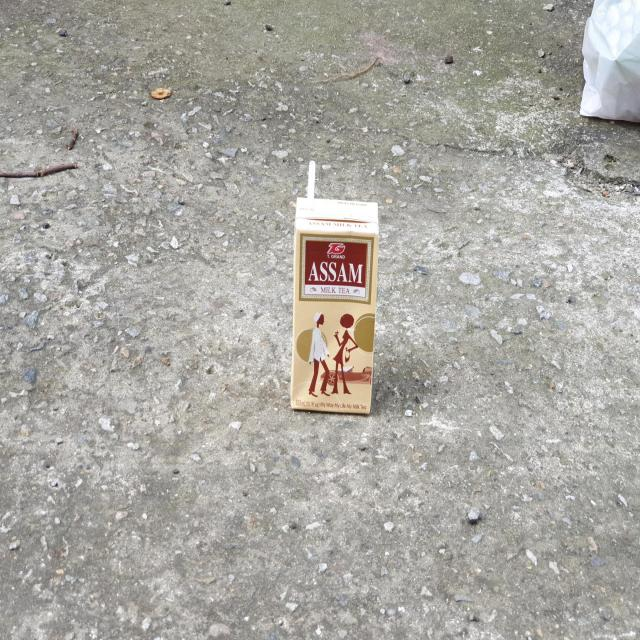paperpack: (290, 196, 379, 414)
